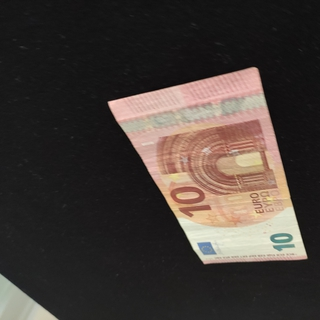10EUROFront: (107, 66, 309, 264)
